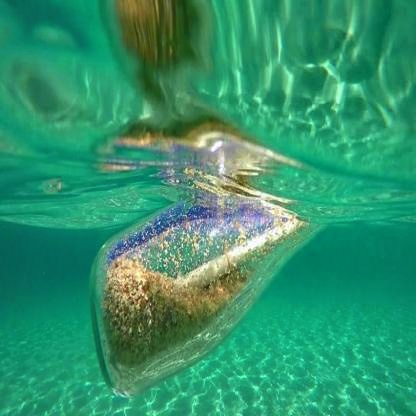gbottle: (87, 193, 324, 394)
